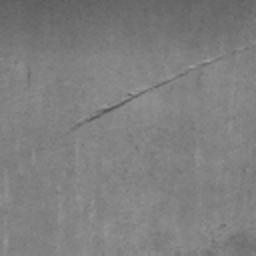Finishing roll printing: (69, 45, 255, 133)
